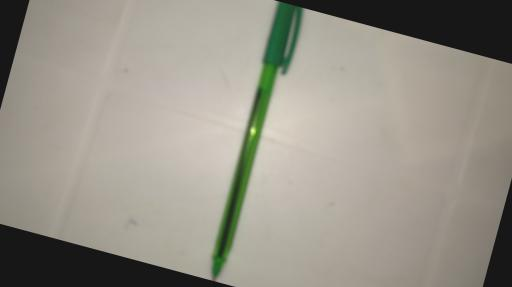pen: (204, 1, 306, 286)
